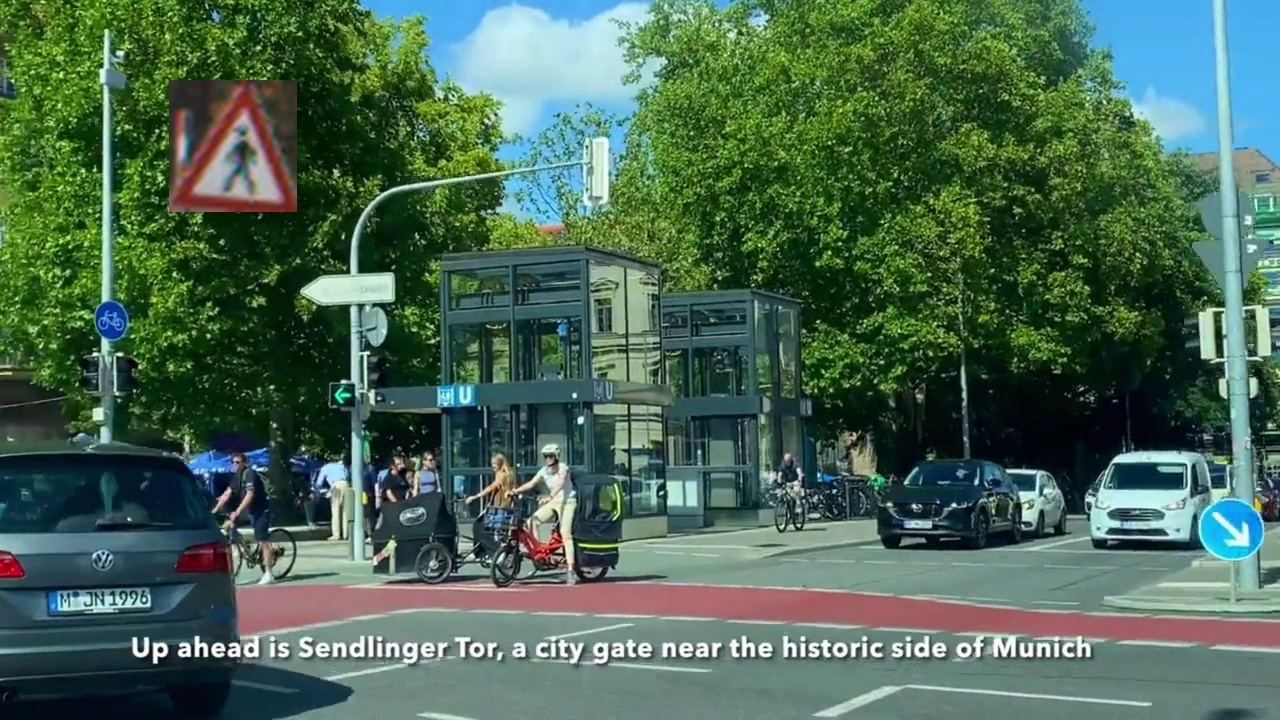Pedestrians: (169, 80, 297, 212)
